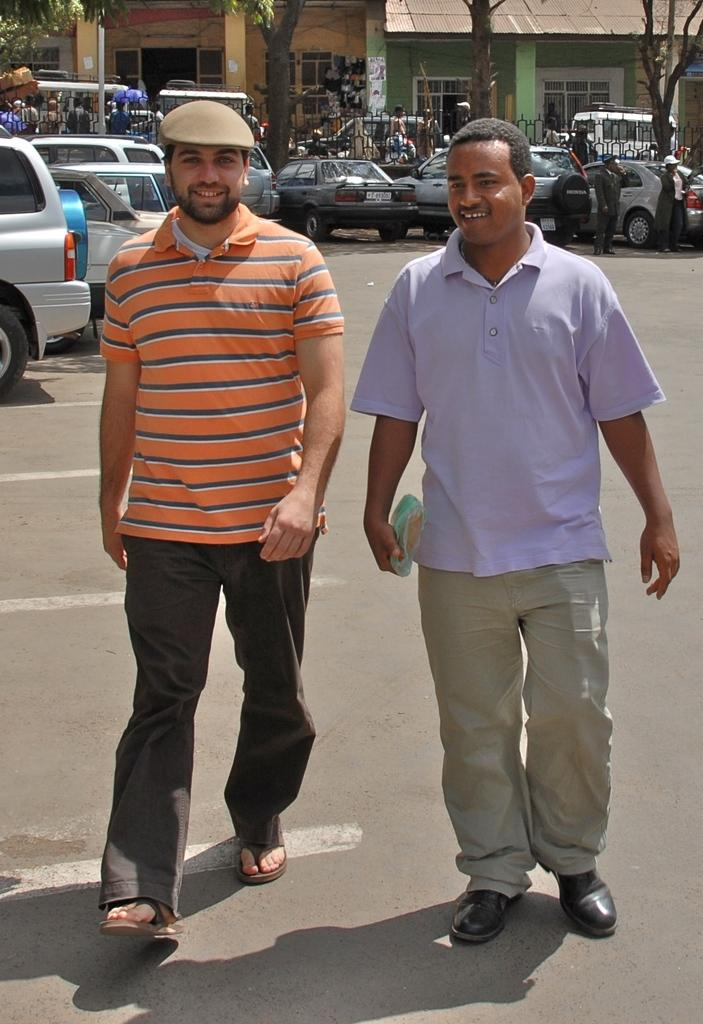Hat: (157, 98, 253, 147)
